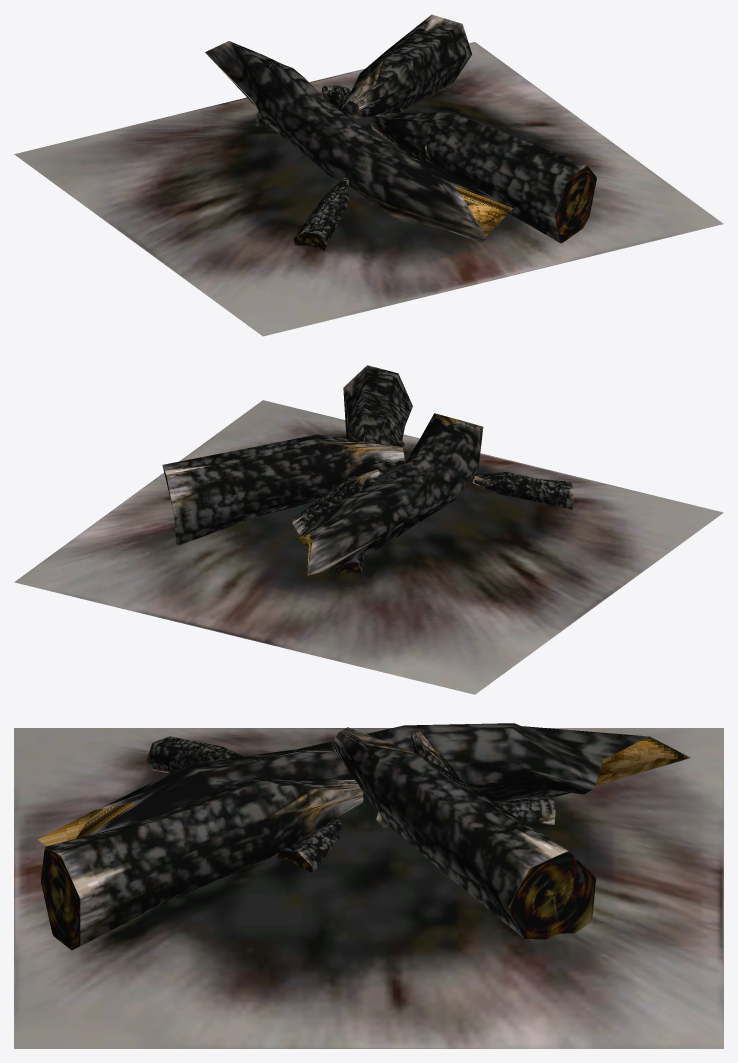
The model's file is INST_MIRK_CAMPFIRE_MIRKWOOD.fbx.
The picture shows the model from 3 angles, top to bottom: view 1: azimuth 30°, elevation 25°; view 2: azimuth 150°, elevation 25°; view 3: azimuth 270°, elevation 25°; orthographic projection. The views are drawn at different scales.
Visible parts, largest first — view 1: INST_MIRK_CAMPFIRE_MIRKWOOD; view 2: INST_MIRK_CAMPFIRE_MIRKWOOD; view 3: INST_MIRK_CAMPFIRE_MIRKWOOD.
Part boxes in pixels (box(x1,y1,x2,y2)): INST_MIRK_CAMPFIRE_MIRKWOOD: box(14, 14, 723, 336); INST_MIRK_CAMPFIRE_MIRKWOOD: box(14, 365, 723, 694); INST_MIRK_CAMPFIRE_MIRKWOOD: box(14, 723, 723, 1048).
Bounding box in the file's own units: 53940 × 12259 × 50460.
5 materials, 5 textured.
